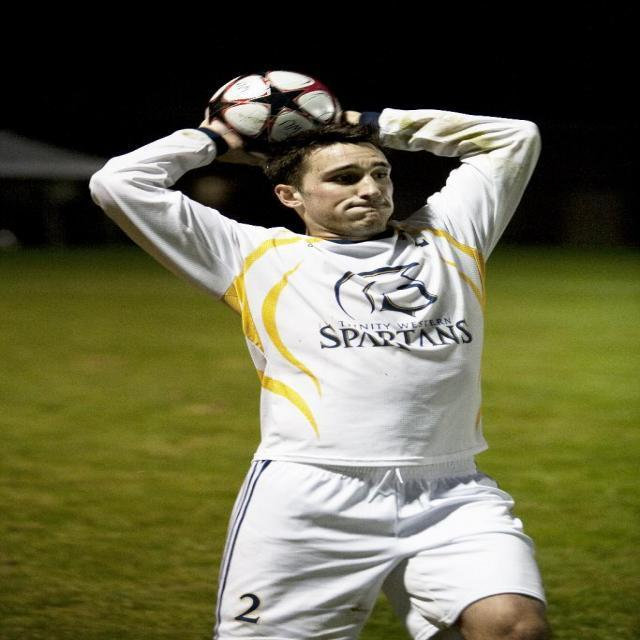football: (190, 63, 346, 150)
